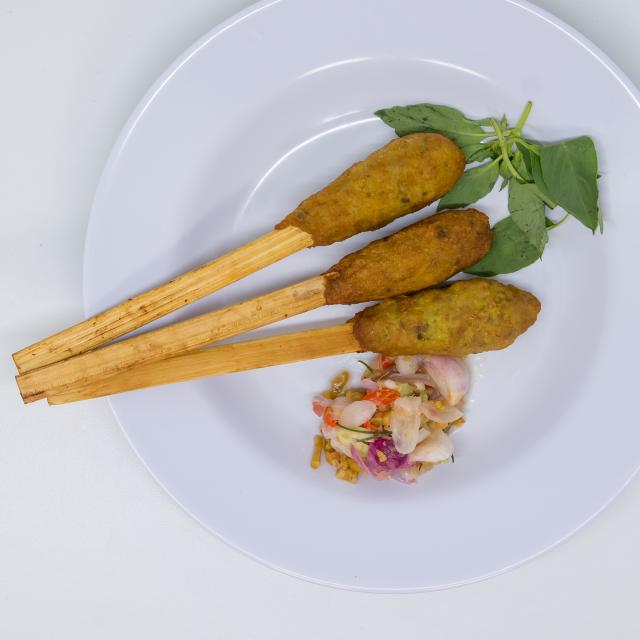Sate-Lilit: (116, 72, 619, 492)
